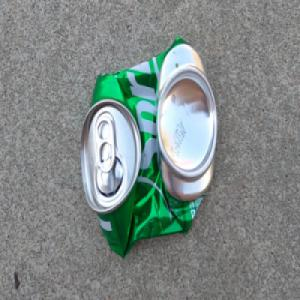SodaCan: (79, 34, 218, 261)
